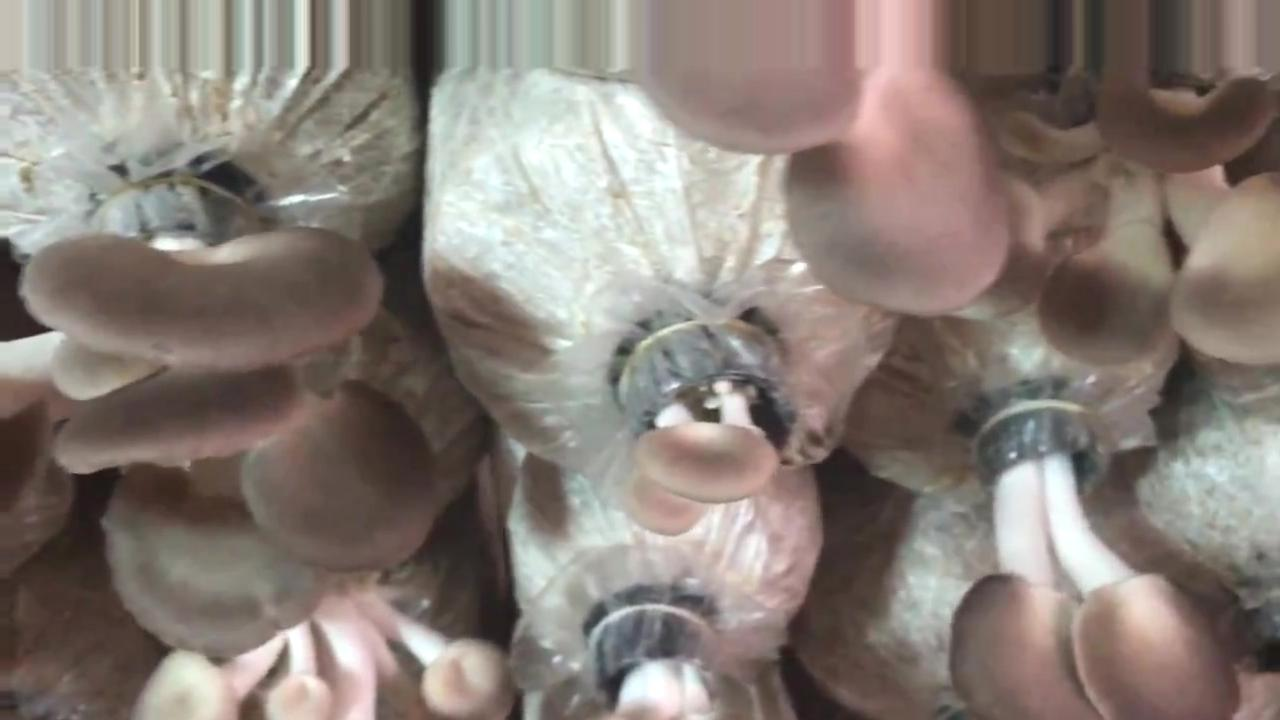nam: (638, 67, 1280, 368), (24, 189, 436, 656), (952, 407, 1235, 720), (616, 321, 800, 534)
